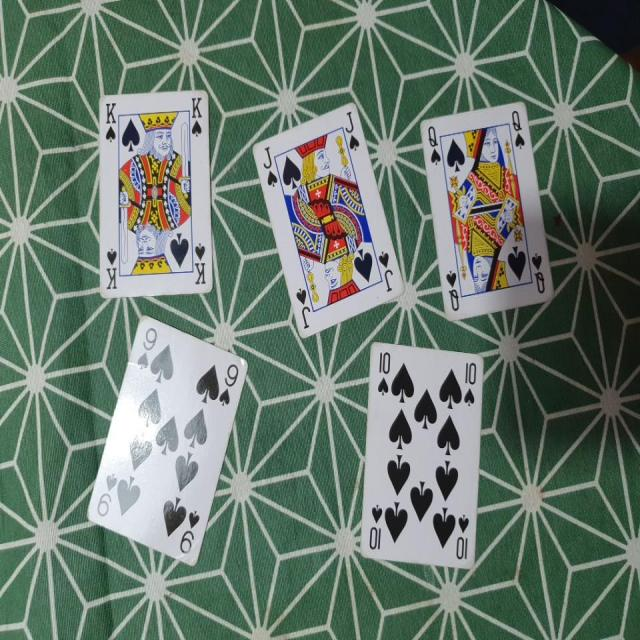10 Spades: (355, 332, 482, 570)
9 Spades: (81, 309, 252, 562)
J Spades: (248, 95, 405, 342)
K Spades: (95, 86, 217, 300)
Q Spades: (418, 98, 558, 322)
